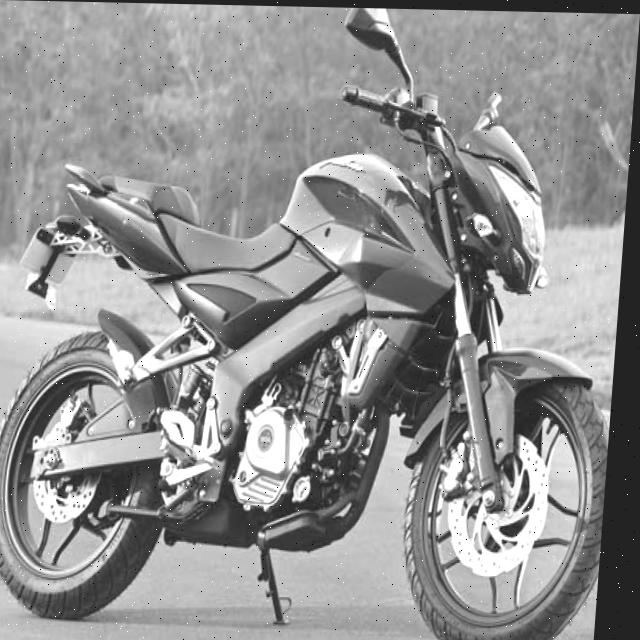bike: (0, 57, 636, 640)
